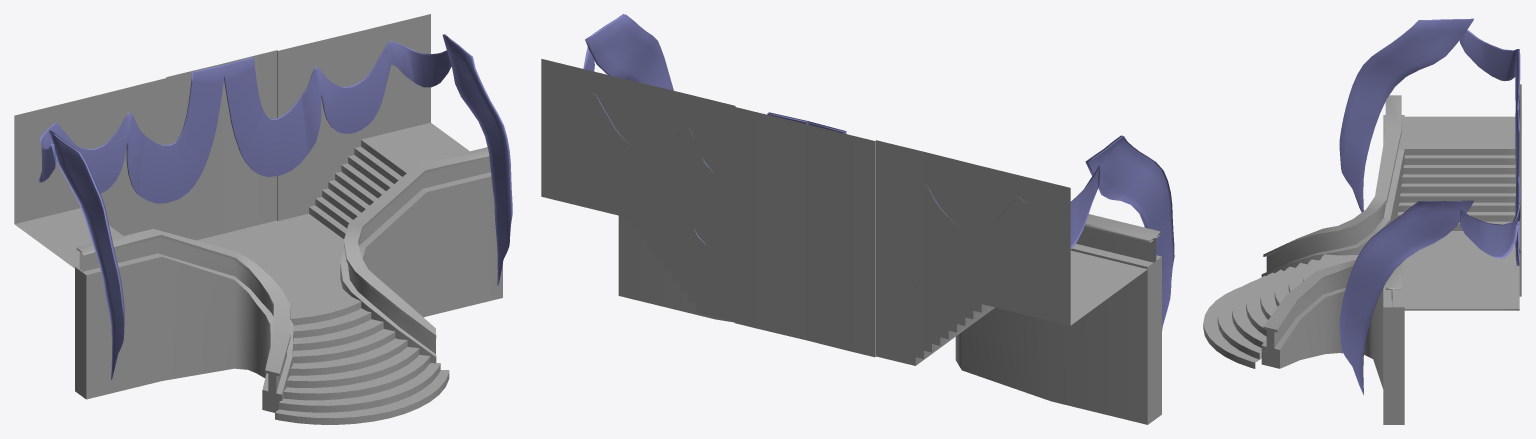
Rendered from GrandStairCase.fbx.
3 renders of one model, left to right at view 1: azimuth 30°, elevation 25°; view 2: azimuth 150°, elevation 25°; view 3: azimuth 270°, elevation 25°, orthographic. The views are drawn at different scales.
Parts seen in each view (by area): view 1: GrandStairCase; view 2: GrandStairCase; view 3: GrandStairCase.
Part boxes in pixels (box(x1,y1,x2,y2)): GrandStairCase: box(14, 14, 512, 424); GrandStairCase: box(541, 14, 1174, 424); GrandStairCase: box(1203, 18, 1521, 424).
Bounding box in the file's own units: 12 × 6.37 × 8.39.
